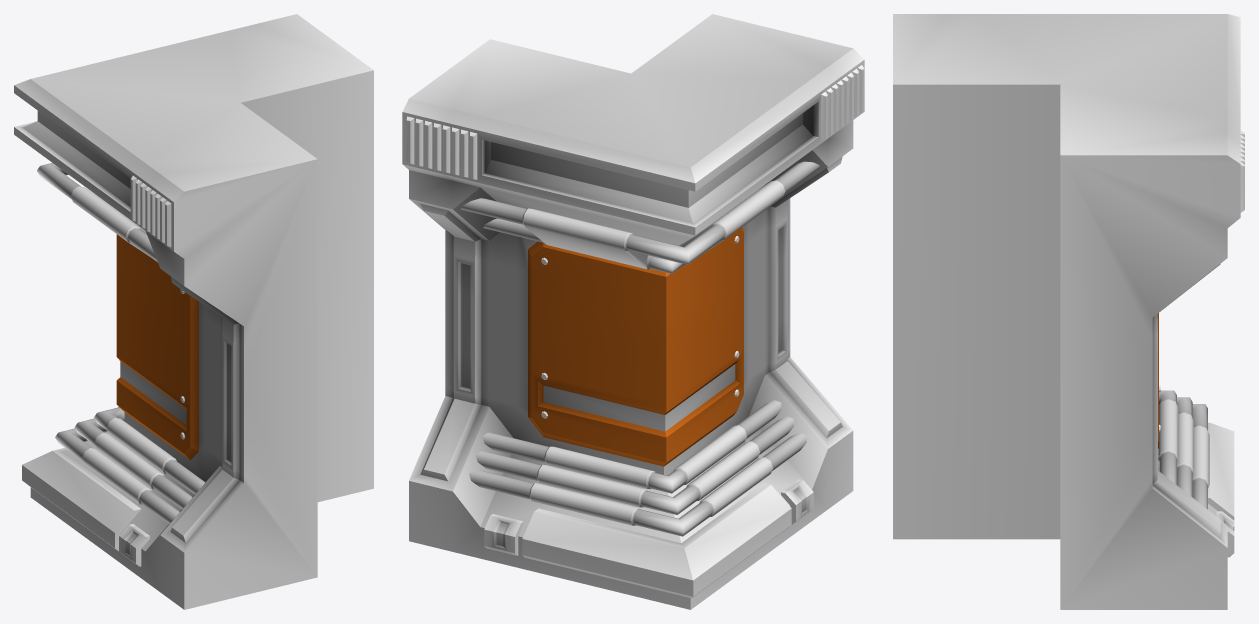
Rendered from wallAngleStraightOut.FBX.
3 renders of one model, left to right at view 1: azimuth 30°, elevation 25°; view 2: azimuth 150°, elevation 25°; view 3: azimuth 270°, elevation 25°, orthographic. The views are drawn at different scales.
Parts seen in each view (by area): view 1: wallAngleStraightOut; view 2: wallAngleStraightOut; view 3: wallAngleStraightOut.
Boxes of the visible parts, x1,y1,x2,y2 form: wallAngleStraightOut: (14,14,373,609); wallAngleStraightOut: (402,14,864,609); wallAngleStraightOut: (893,14,1244,609).
Bounding box in the file's own units: 2.1 × 3 × 2.1.
